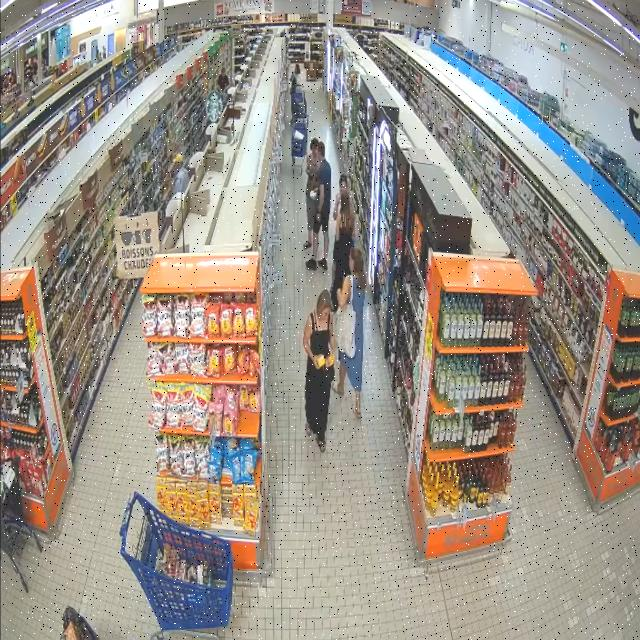article: (315, 354, 326, 368), (325, 355, 334, 367)
bags: (334, 280, 355, 357)
hands: (313, 356, 321, 369), (316, 211, 321, 221), (337, 288, 341, 295)
person: (334, 247, 366, 418), (303, 291, 334, 451), (306, 141, 331, 270), (331, 190, 355, 310), (332, 175, 355, 281), (304, 138, 319, 249), (173, 154, 189, 195)
